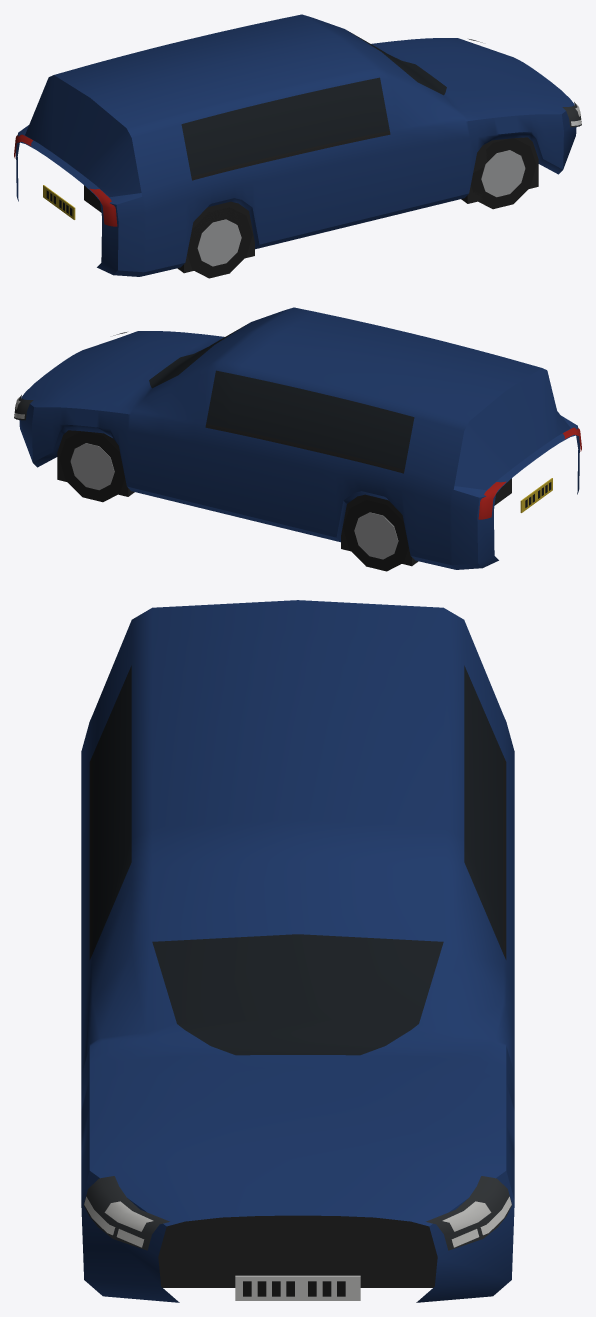
Rendered from SM_Prop_parked_car_104_LOD1.glb.
3 renders of one model, top to bottom at view 1: azimuth 30°, elevation 25°; view 2: azimuth 150°, elevation 25°; view 3: azimuth 270°, elevation 25°, orthographic. The views are drawn at different scales.
Visible parts, largest first — view 1: SM_Prop_parked_car_104_LOD1; view 2: SM_Prop_parked_car_104_LOD1; view 3: SM_Prop_parked_car_104_LOD1.
Boxes of the visible parts, left/top/right/bottom form: SM_Prop_parked_car_104_LOD1: left=14, top=14, right=581, bottom=278; SM_Prop_parked_car_104_LOD1: left=14, top=307, right=581, bottom=571; SM_Prop_parked_car_104_LOD1: left=81, top=600, right=514, bottom=1302.
Size of the model in its own units: 4.65 by 1.5 by 1.8.
